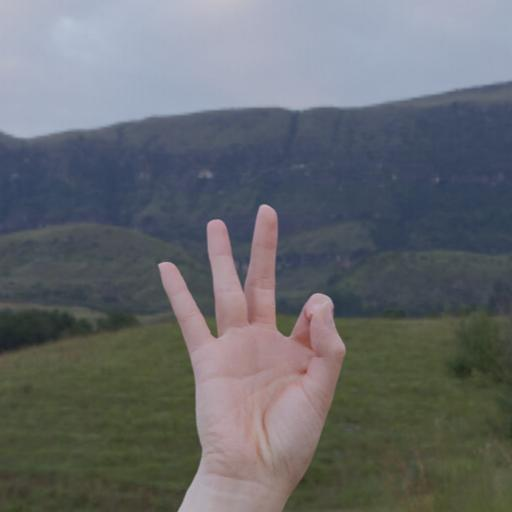F: (119, 176, 404, 501)
